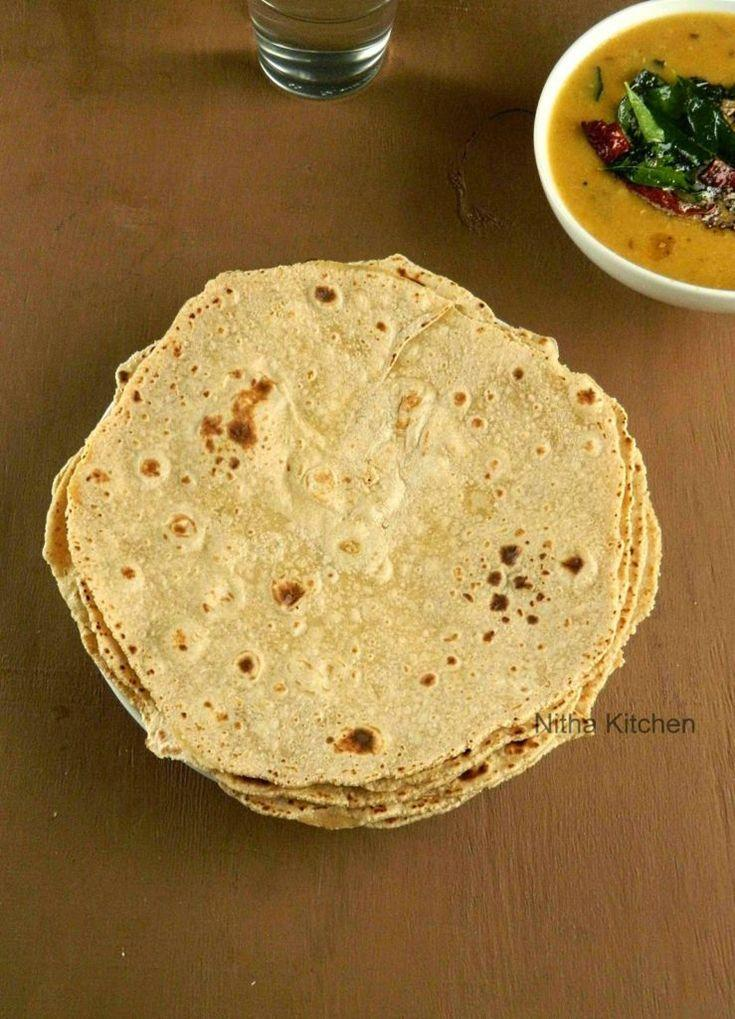roti phulka: (46, 252, 606, 835)
